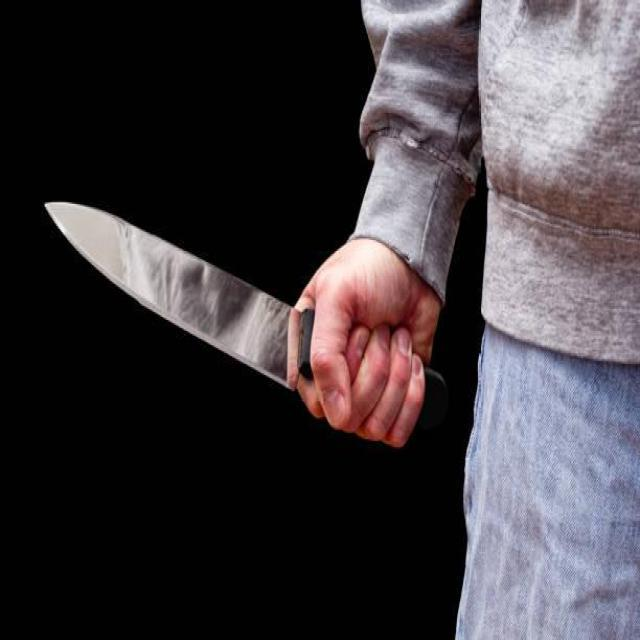faca: (34, 171, 452, 463)
